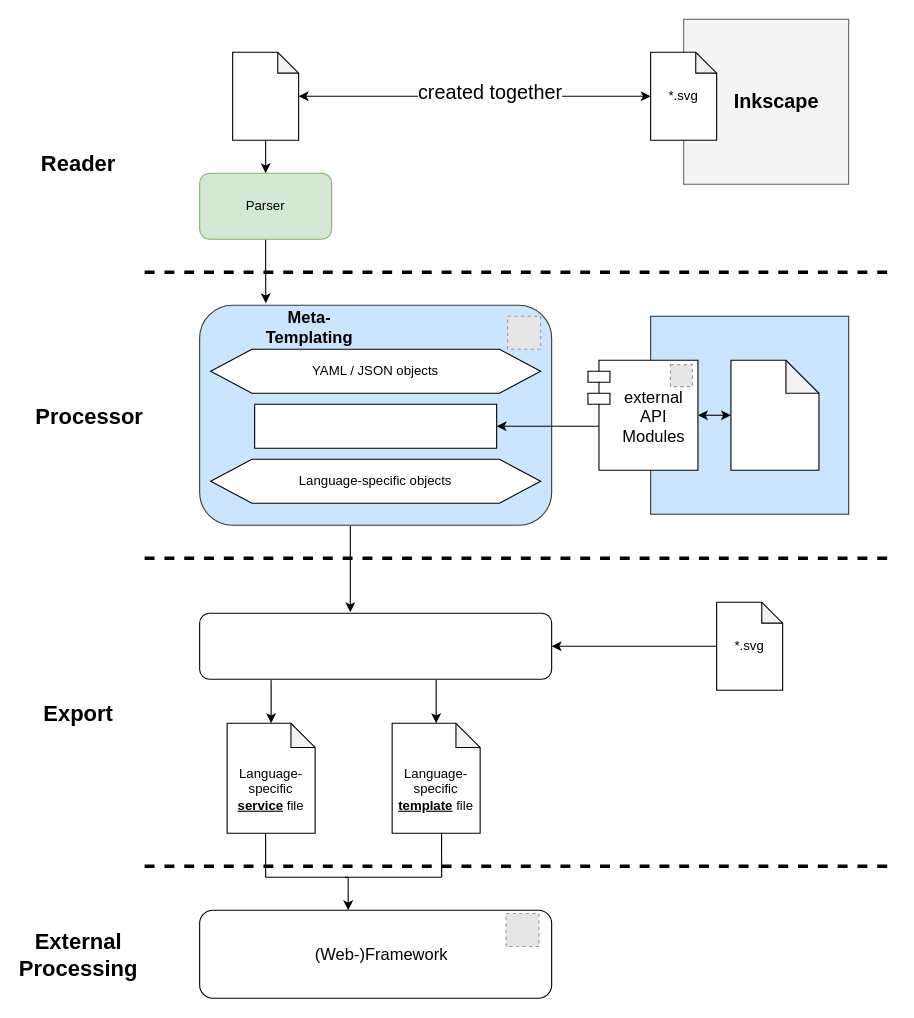
Some shapes in this 914 by 1018 pixel diagram are drawn without their labels. Grey dashed boxes stand in for pictures. The centre of each missing label's shape, as x and y in pixels:
*.yaml or *.json: point (265, 95)
API description files: point (774, 414)
API objects: point (375, 425)
Language-specific file export: point (375, 645)
